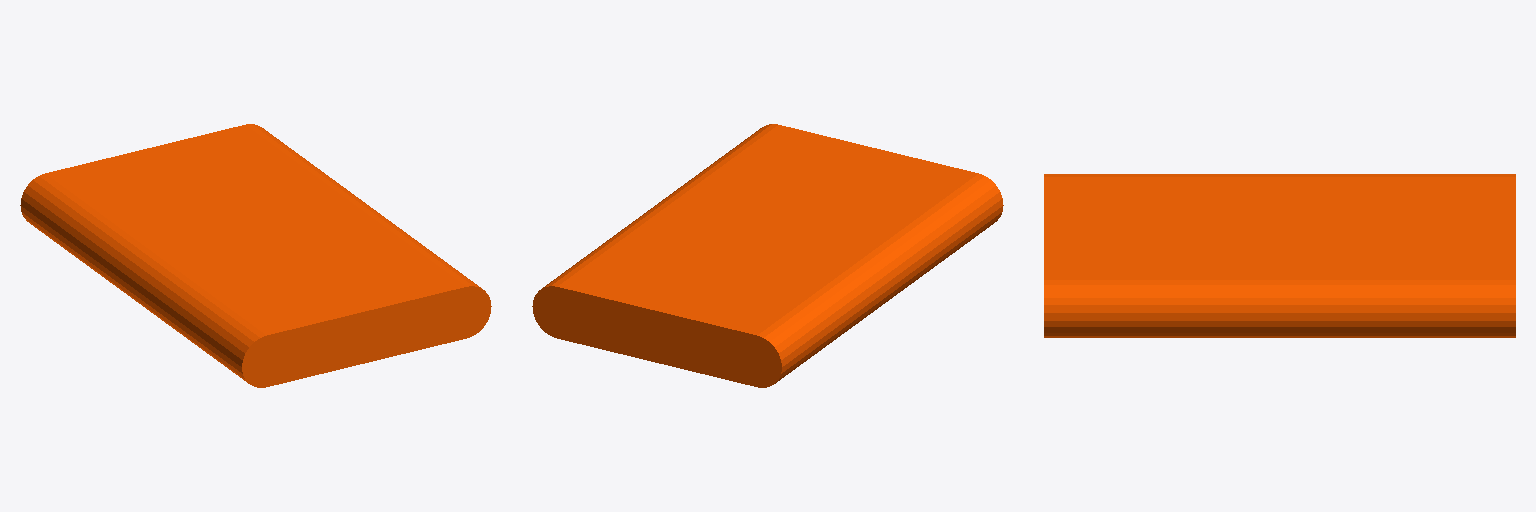
URDF robot description (CellPhone_c13ce3bd7153ea262388b9322a31a5):
<?xml version="1.0" ?>
<robot name="CellPhone_c13ce3bd7153ea262388b9322a31a5">
   <material name="obj_color">
      <color rgba="1.0 0.423529411765 0.0392156862745 1.0"/>
   </material>
   <link name="top">
      <inertial>
         <origin rpy="2.893267906085092e-05 7.259045856464766e-05 9.924285045090819e-05" xyz="0.0004454999999999999 -0.0002859999999999981 -1.99999999999986e-06"/>
         <mass value="0.08281318444961631"/>
         <inertia ixx="7.259045856464766e-05" ixy="-5.921449963143275e-22" ixz="-2.57158557682463e-23" iyy="2.893267906085092e-05" iyz="1.246272750326915e-22" izz="9.924285045090821e-05"/>
      </inertial>
      <visual>
         <origin rpy="0 0 0" xyz="0 0 0"/>
         <geometry>
            <mesh filename="top_watertight_tiny.stl" scale="1 1 1"/>
         </geometry>
         <material name="obj_color"/>
      </visual>
      <collision>
         <origin rpy="0 0 0" xyz="0 0 0"/>
         <geometry>
            <mesh filename="top_watertight_tiny.obj" scale="1 1 1"/>
         </geometry>
      </collision>
   </link>
   <link name="bottom">
      <inertial>
         <origin rpy="1.633333333199431e-08 1.633333333199431e-08 1.633333333362855e-08" xyz="0.3464080000000008 0.3464080000000008 0.3464080000000008"/>
         <mass value="0.0009800000000000017"/>
         <inertia ixx="1.633333333253906e-08" ixy="5.447480642029219e-19" ixz="5.447480642029219e-19" iyy="1.633333333253906e-08" iyz="5.447480642029219e-19" izz="1.633333333253906e-08"/>
      </inertial>
      <visual>
         <origin rpy="0 0 0" xyz="0 0 0"/>
         <geometry>
            <mesh filename="bottom_watertight_tiny.stl" scale="1 1 1"/>
         </geometry>
         <material name="obj_color"/>
      </visual>
   </link>
   <link name="world"/>
   <joint name="world_to_base" type="fixed">
      <origin xyz="0 0 0"/>
      <axis xyz="0 0 0"/>
      <parent link="world"/>
      <child link="bottom"/>
   </joint>
   <joint name="rotation" type="revolute">
      <origin xyz="0 0 0"/>
      <axis xyz="0 0 -1"/>
      <parent link="bottom"/>
      <child link="top"/>
      <dynamics damping="1.0" friction="1.0"/>
      <limit effort="0.1" velocity="0.1" lower="0" upper="0.001"/>
   </joint>
</robot>

--- What the picture shows (computed from the rendered views, not written in the file) ---
Views: 3 orthographic renders of the robot side by side, from view 1: azimuth 30°, elevation 25°; view 2: azimuth 150°, elevation 25°; view 3: azimuth 270°, elevation 25°.
Model CellPhone_c13ce3bd7153ea262388b9322a31a5 with 3 links and 2 joints (1 revolute, 1 fixed), rooted at world, posed all joints at 0.
Visible links, largest first — view 1: top; view 2: top; view 3: top.
Boxes of the visible links, x1=… form: top: x1=20, y1=124, x2=491, y2=387; top: x1=532, y1=124, x2=1003, y2=387; top: x1=1044, y1=174, x2=1515, y2=337.
Size in the robot's own frame: 0.0662 by 0.1018 by 0.0131 metres.
Meshes: 2 distinct files referenced, 1 mesh visuals loaded (1 binary STL); not drawn: 1 (reference not matched to a file when rendering).
